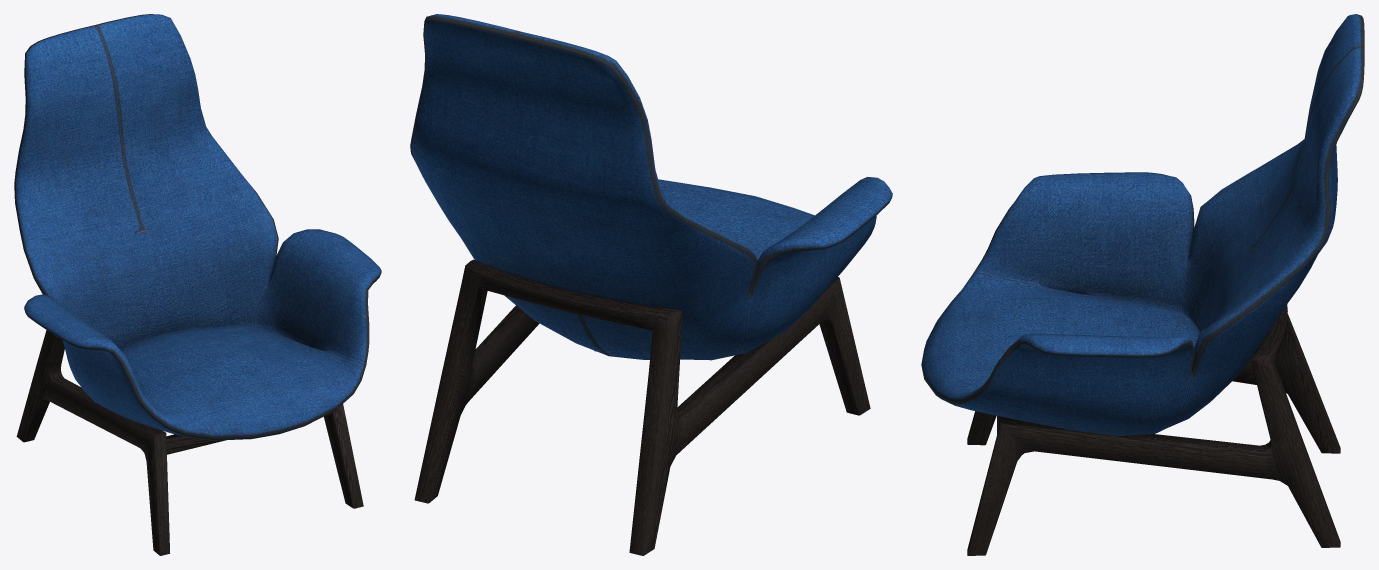
The picture shows the model from 3 angles, left to right: view 1: azimuth 30°, elevation 25°; view 2: azimuth 150°, elevation 25°; view 3: azimuth 270°, elevation 25°; orthographic projection. The views are drawn at different scales.
Visible parts, largest first — view 1: Ventura_Lounge; view 2: Ventura_Lounge; view 3: Ventura_Lounge.
Boxes of the visible parts, left/top/right/bottom form: Ventura_Lounge: left=14, top=14, right=381, bottom=555; Ventura_Lounge: left=410, top=14, right=892, bottom=555; Ventura_Lounge: left=921, top=14, right=1364, bottom=555.
Bounding box in the file's own units: 1.19 × 1.38 × 1.23.
Materials: 1 (1 with a texture image).
